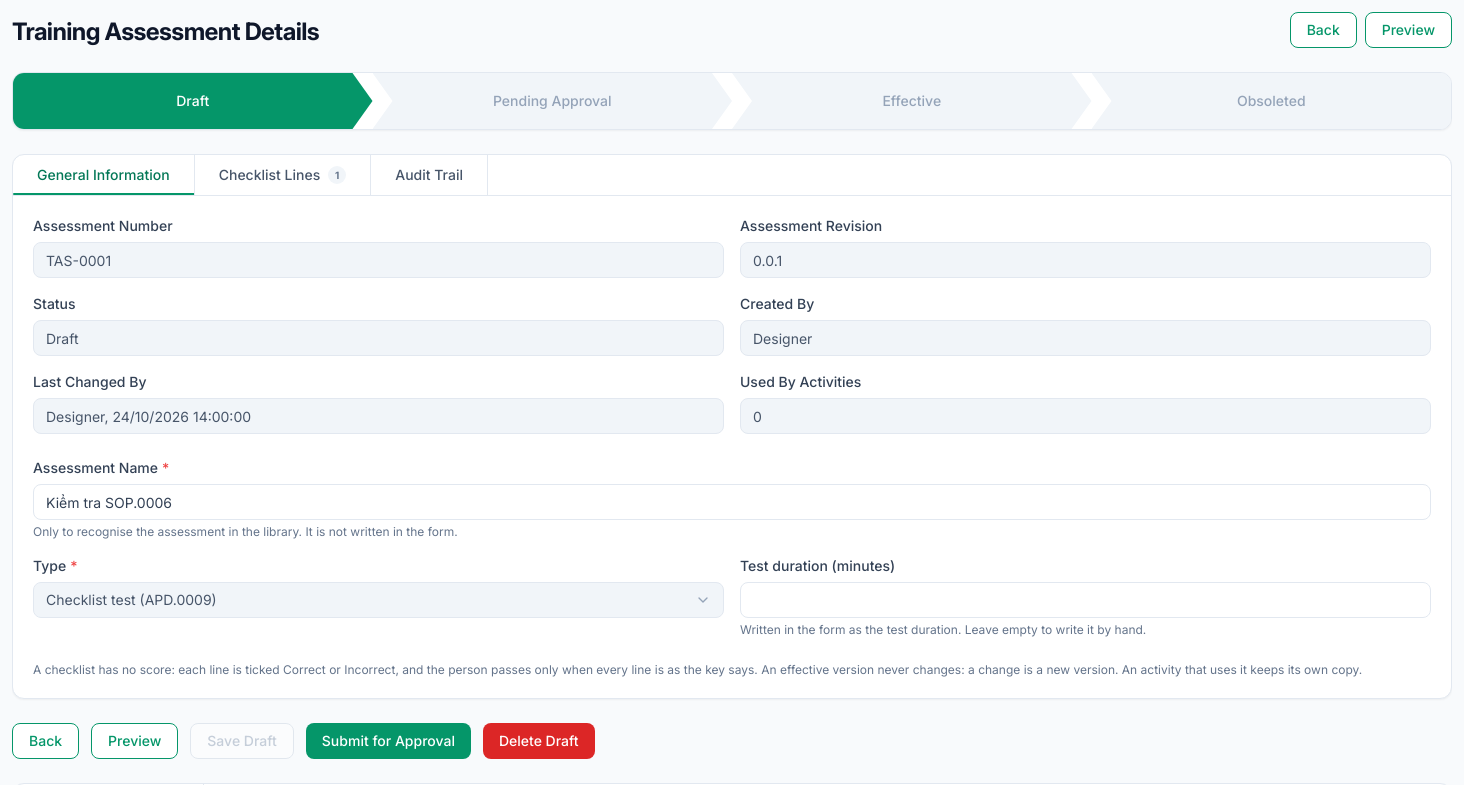
it: Training Assessment (APD.0009) in the library › a checklist has no score: no Total Score, no Points, a key per line
Expected: the text "Checklist test (APD.0009)" is shown, [46,591,217,608]
Click the tab "Checklist Lines 1".
click(283, 175)  # box [195,155,371,195]
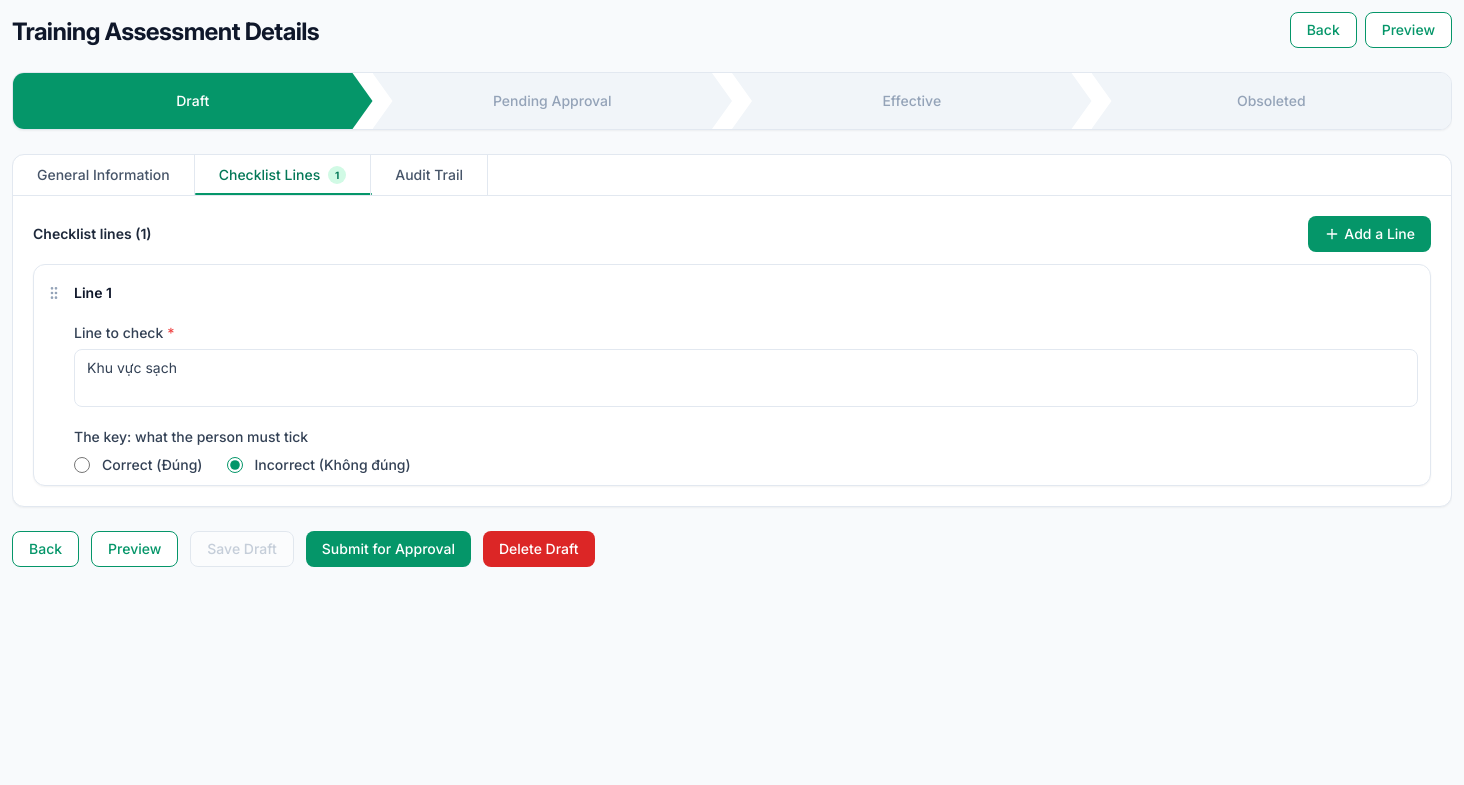
Result: the text "Correct (Đúng)" is shown at [102,455,202,475]
Result: the radio button labelled "Incorrect (Không đúng)" is checked at [226,457,242,473]
